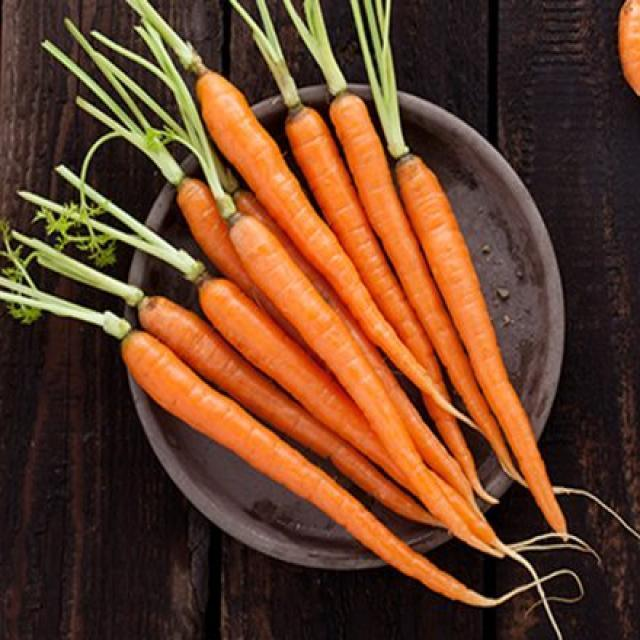carrot: (115, 318, 521, 621), (190, 48, 490, 427), (216, 188, 504, 557), (282, 93, 498, 516)
